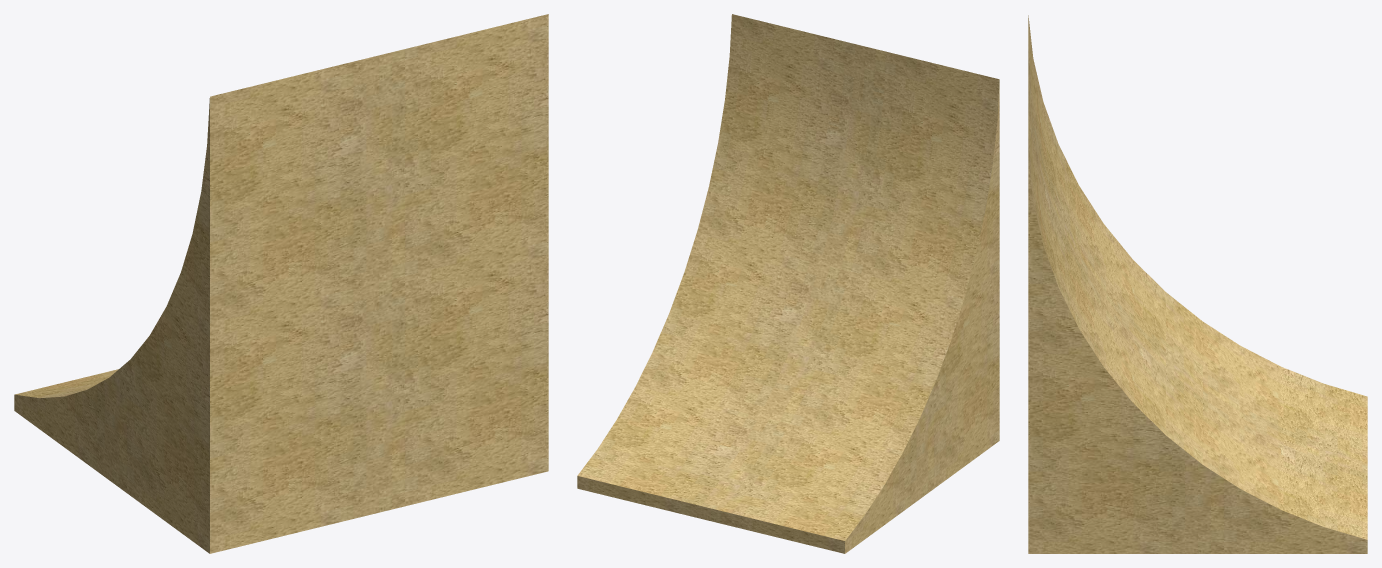
Rendered from left5.fbx.
3 renders of one model, left to right at view 1: azimuth 30°, elevation 25°; view 2: azimuth 150°, elevation 25°; view 3: azimuth 270°, elevation 25°, orthographic. The views are drawn at different scales.
Visible parts, largest first — view 1: Group1; view 2: Group1; view 3: Group1.
Part boxes in pixels (x1,y1,x2,y2): Group1: [14, 14, 548, 553]; Group1: [577, 14, 999, 553]; Group1: [1028, 15, 1367, 553].
Bounding box in the file's own units: 1000 × 1290 × 1000.
